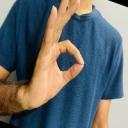hand: (29, 0, 85, 106)
